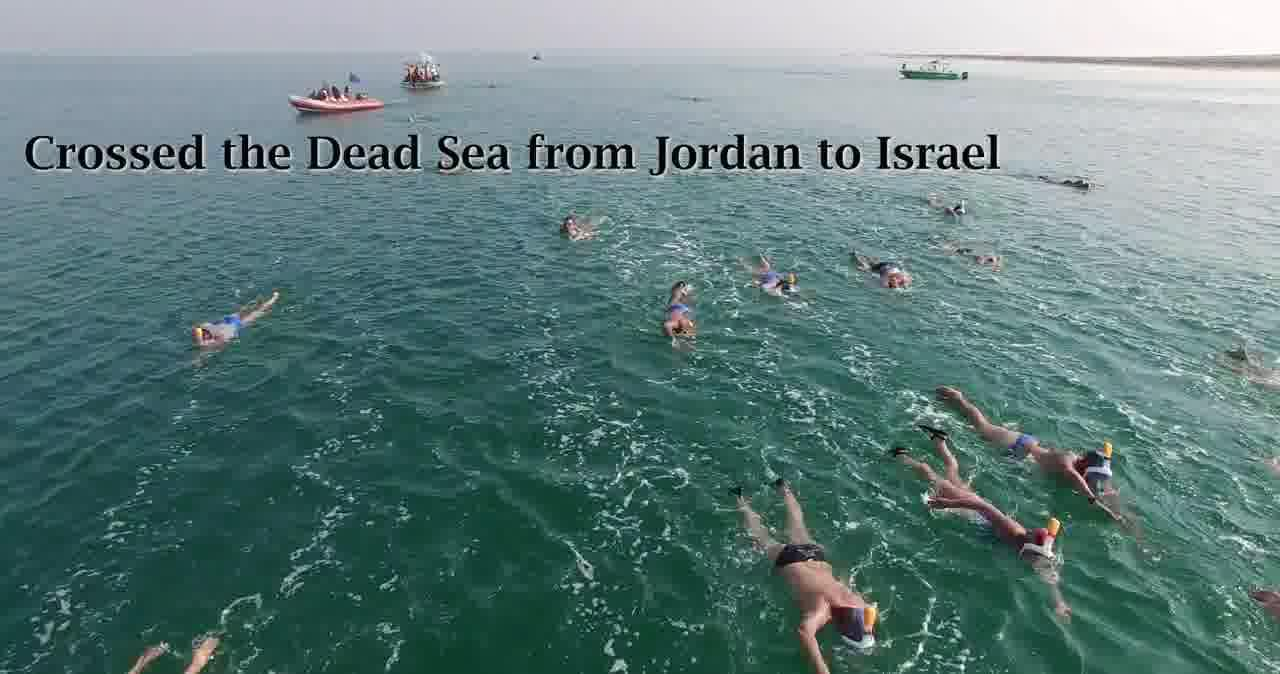swimmer: (891, 421, 1066, 606), (729, 479, 888, 671), (936, 369, 1104, 515), (646, 273, 715, 351), (196, 288, 278, 351), (749, 247, 813, 311), (850, 251, 917, 293), (559, 213, 598, 242)
